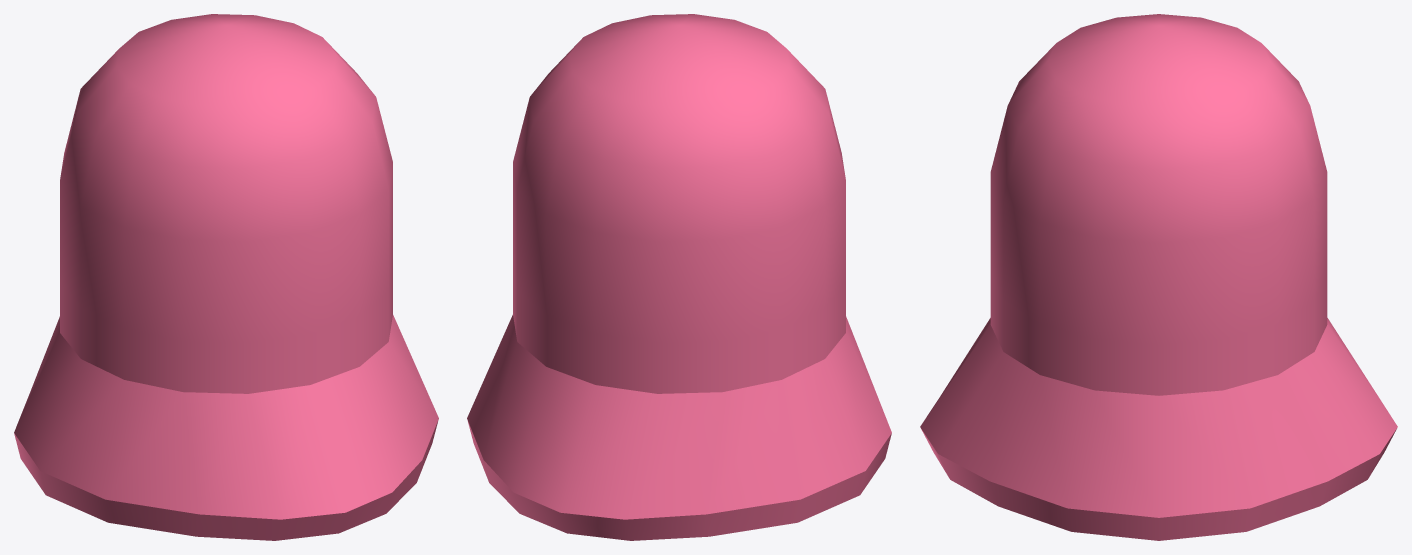
Rendered from Arm_Sleeve_L_01_L.fbx.
3 renders of one model, left to right at view 1: azimuth 30°, elevation 25°; view 2: azimuth 150°, elevation 25°; view 3: azimuth 270°, elevation 25°, orthographic.
Parts seen in each view (by area): view 1: Arm_Sleeve_L_01_L; view 2: Arm_Sleeve_L_01_L; view 3: Arm_Sleeve_L_01_L.
Boxes of the visible parts, x1,y1,x2,y2 form: Arm_Sleeve_L_01_L: (14,14,438,540); Arm_Sleeve_L_01_L: (467,14,891,540); Arm_Sleeve_L_01_L: (920,14,1397,540).
Size of the model in its own units: 56.37 by 65.12 by 62.48.
